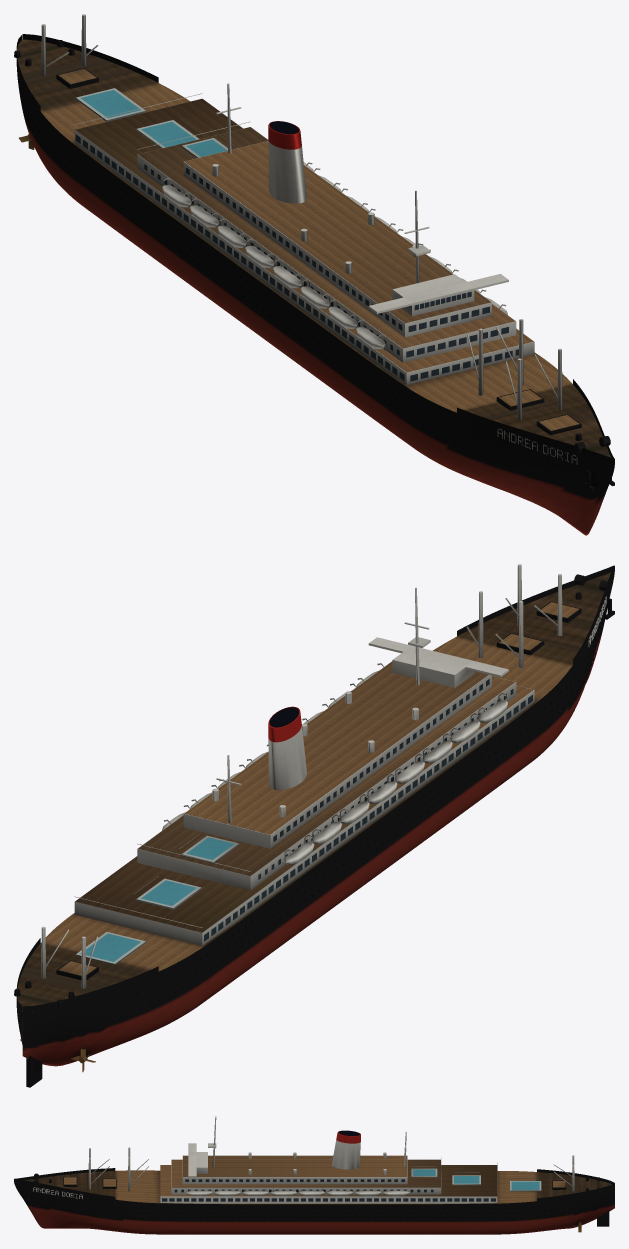
File: model_built.glb
3 views of the same model, one above another, from view 1: azimuth 30°, elevation 25°; view 2: azimuth 150°, elevation 25°; view 3: azimuth 270°, elevation 25° (orthographic). The views are drawn at different scales.
Visible parts, largest first — view 1: main; view 2: main; view 3: main.
Boxes of the visible parts, left/top/right/bottom form: main: left=14, top=14, right=614, bottom=535; main: left=14, top=564, right=614, bottom=1087; main: left=14, top=1116, right=614, bottom=1234.
Bounding box in the file's own units: 28.48 × 43.99 × 214.
2 materials, 2 textured.
